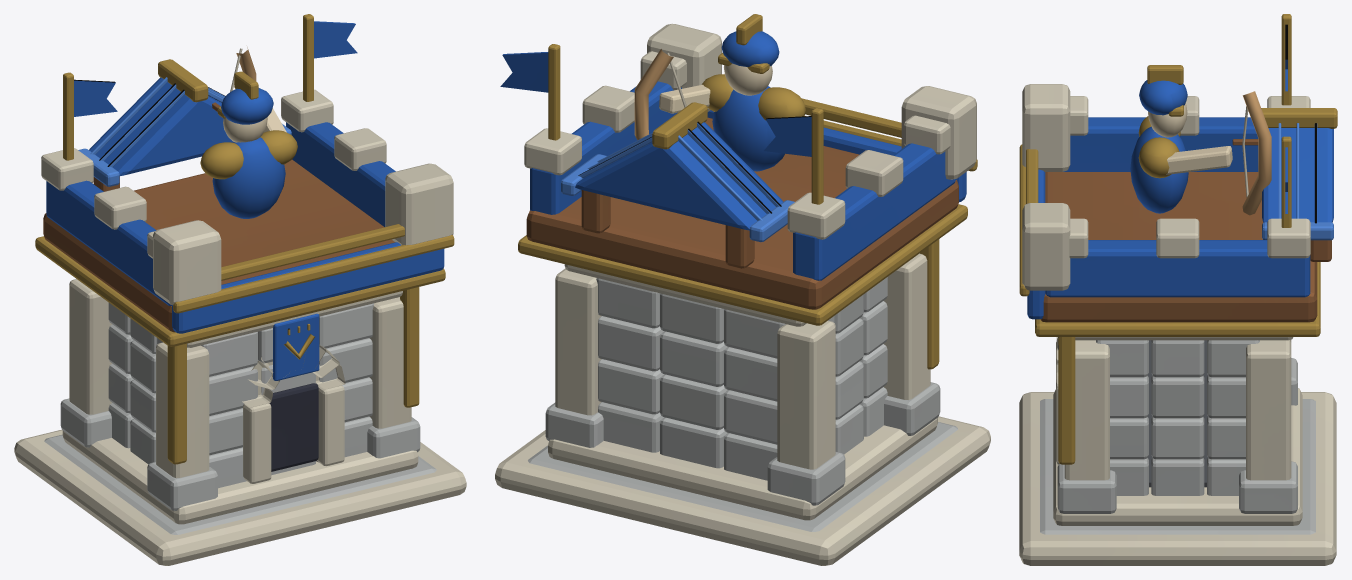
Rendered from arrow_tower_high.glb.
3 renders of one model, left to right at view 1: azimuth 30°, elevation 25°; view 2: azimuth 150°, elevation 25°; view 3: azimuth 270°, elevation 25°, orthographic. The views are drawn at different scales.
Visible parts, largest first — view 1: arrow_tower_high_surface; view 2: arrow_tower_high_surface; view 3: arrow_tower_high_surface.
Part boxes in pixels (<box>): arrow_tower_high_surface: <box>14,14,466,565</box>; arrow_tower_high_surface: <box>495,14,990,565</box>; arrow_tower_high_surface: <box>1019,14,1337,565</box>.
Size of the model in its own units: 1.72 by 2.07 by 1.41.
Materials: 1 (1 with a texture image).
